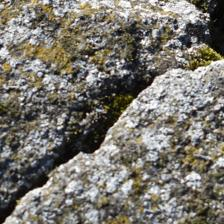Crack: (3, 38, 155, 184)
